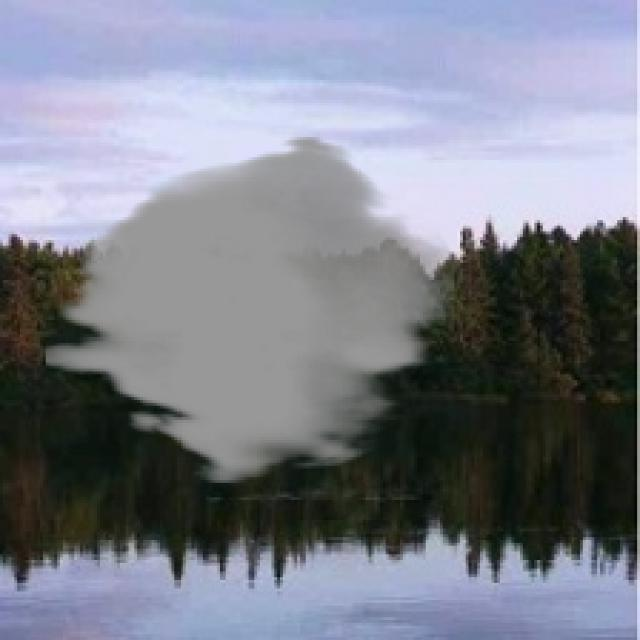Smoke: (46, 134, 454, 486)
